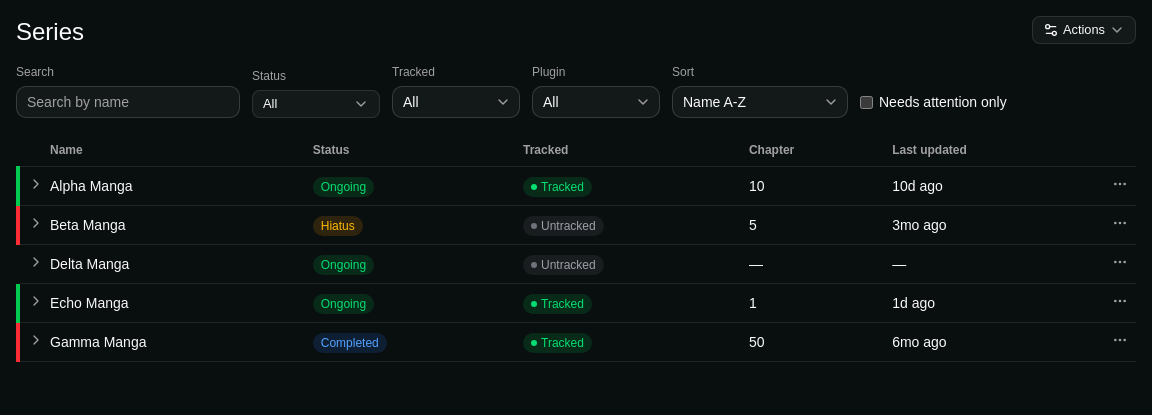
Scenario: SeriesPage › shows a busy message when cleaning orphaned files while the scanner is locked
Expected: the link "Alpha Manga" is shown, [50,178,132,194]
Click the button "Actions" at [1084, 30], box [1032,16,1136,44]
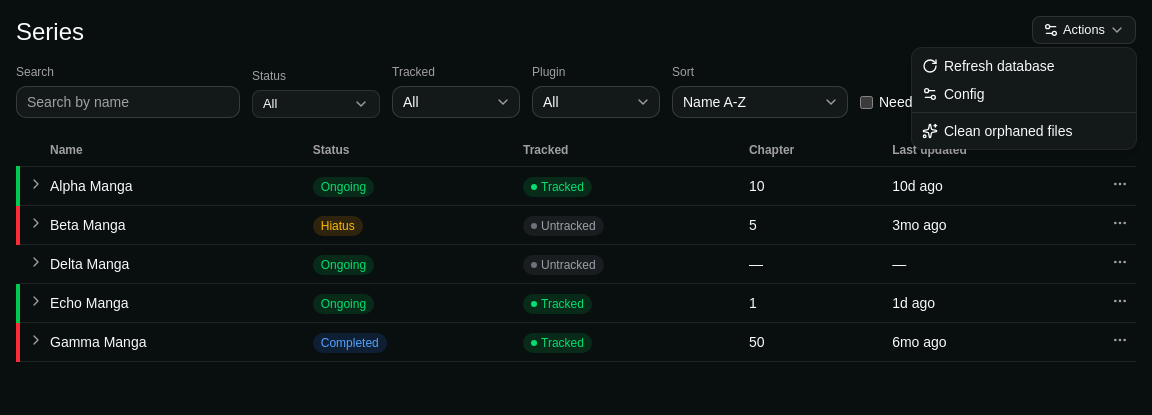
Click the menu item "Clean orphaned files" at [997, 131], box [922,123,1072,139]
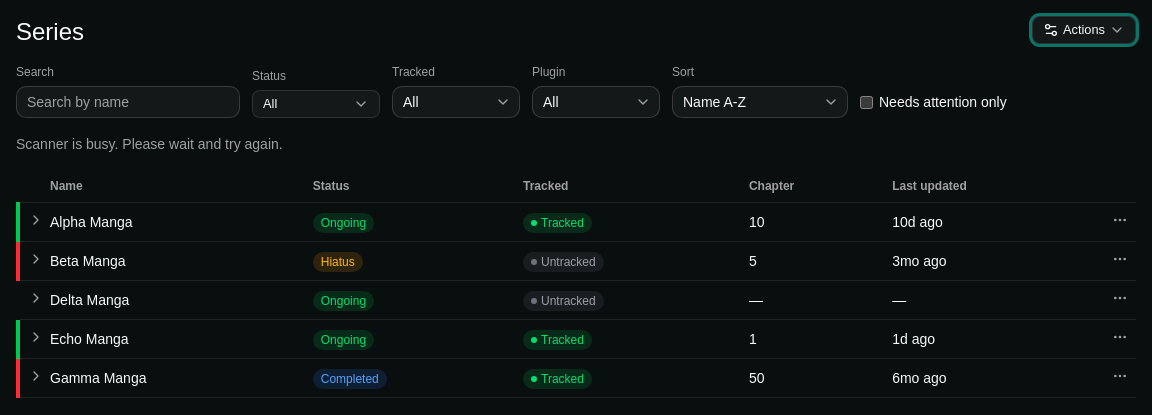
Result: the text "Scanner is busy. Please wait and try again." is shown at [16,136,283,152]
